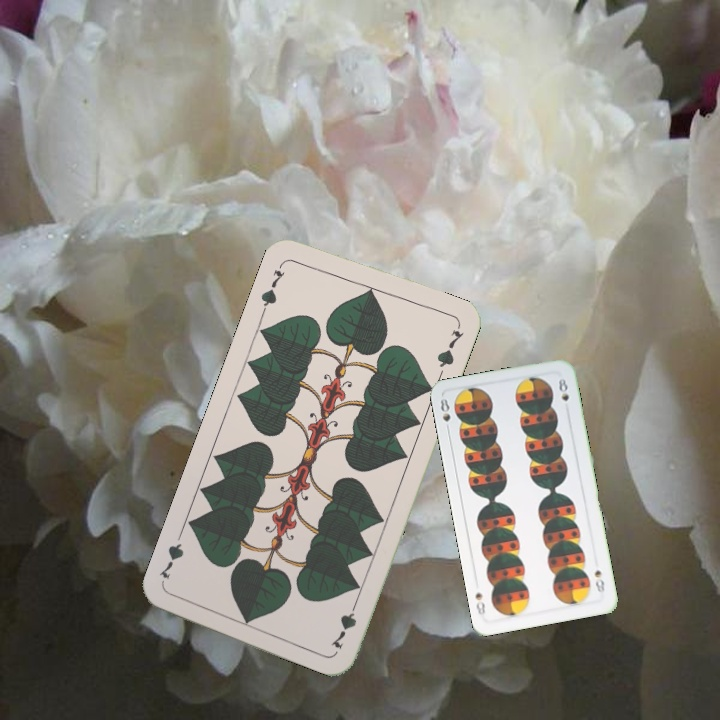G7: (327, 595, 361, 652), (256, 258, 288, 315)
S8: (436, 394, 453, 435), (591, 566, 607, 595)
